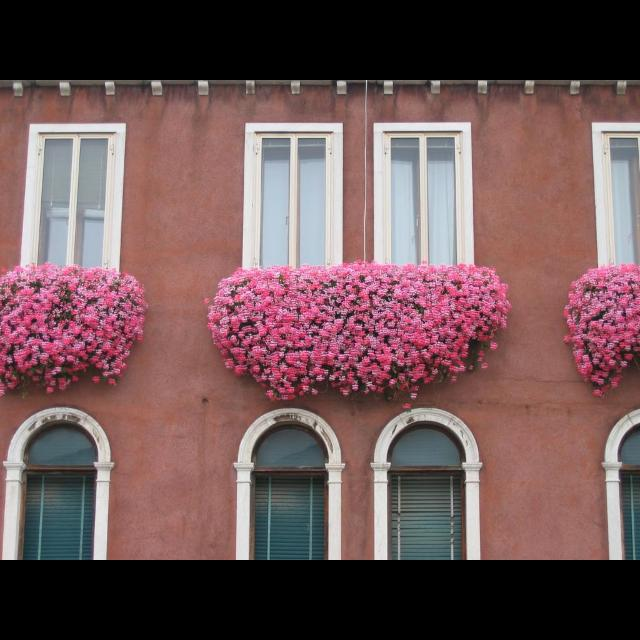Flower: (204, 260, 512, 408), (8, 253, 144, 401), (560, 263, 640, 399)
